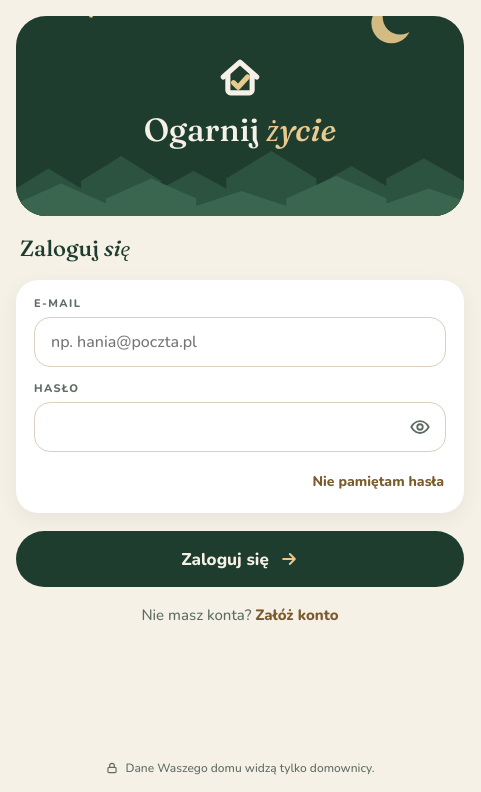
Test: Zaloguj się: puste pola pokazują błędy i nie przechodzą dalej
The image size is (481, 792).
Click the button "Zaloguj się": (240, 559) [16,531,464,587]
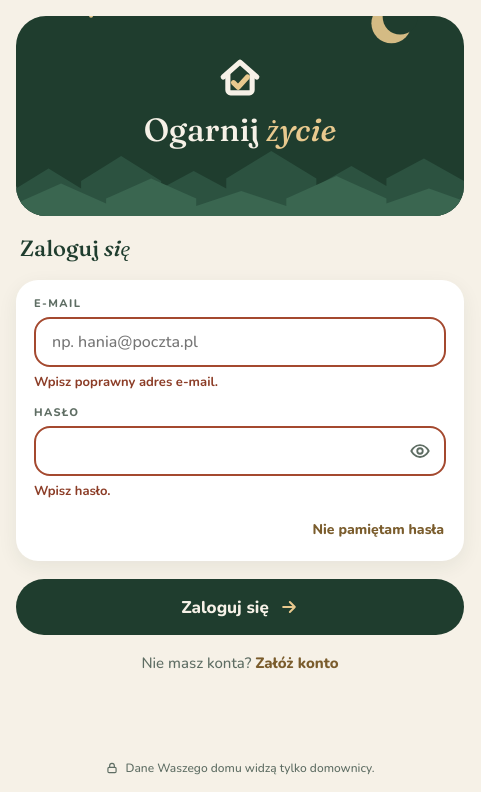
expect the text "Wpisz poprawny adres e‑mail." is shown: met, box [34,373,218,391]
expect the text "Wpisz hasło." is shown: met, box [34,482,110,500]
